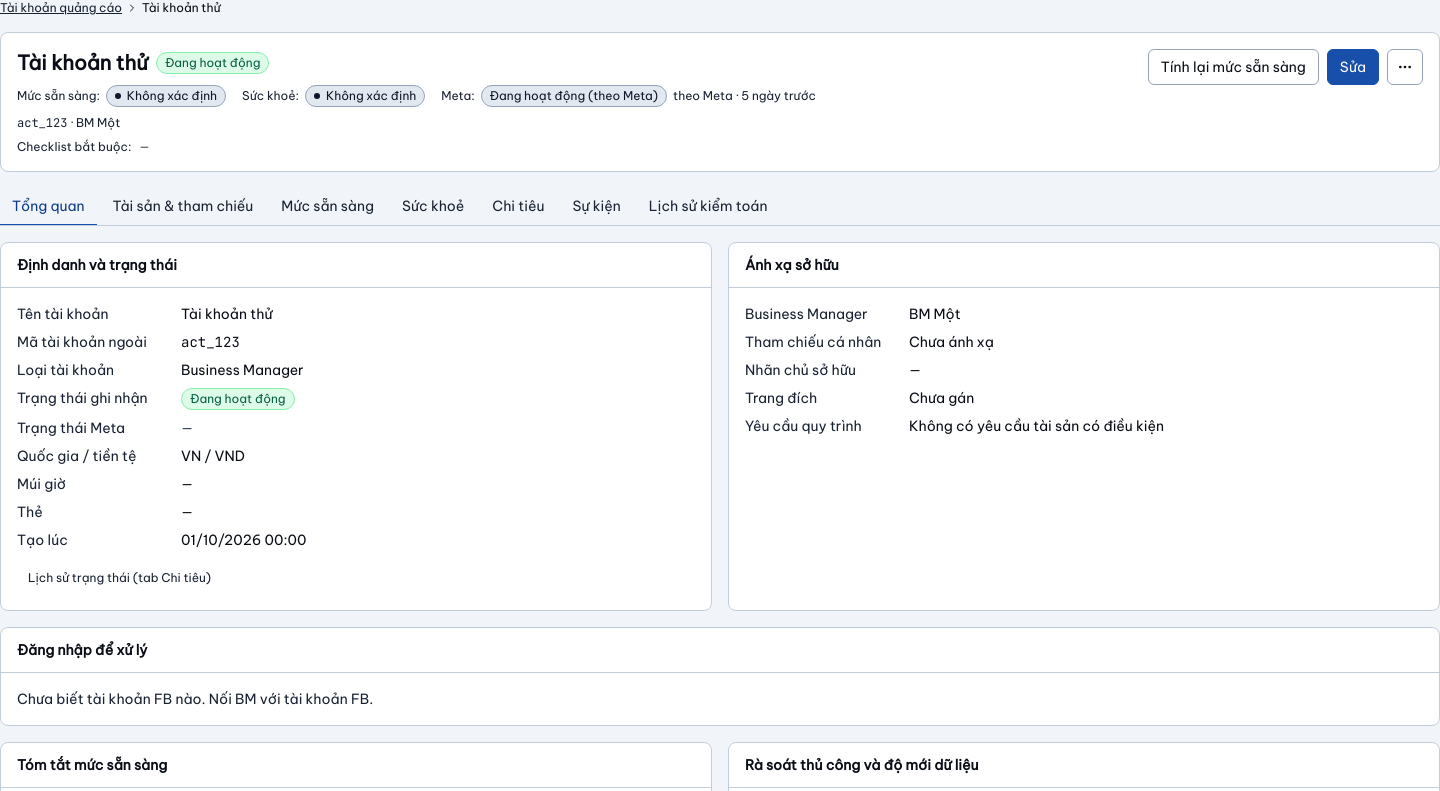
Test: Archive and restore use an AlertDialog, not window.confirm › hands focus back to the page (never to <body>) after cancel and after archiving
This screenshot has width=1440, height=791.
Expected: the heading "Tài khoản thử" is shown, [17,49,148,77]
Click the button named "Thêm hành động".
click(1405, 67)  # box [1387,49,1423,85]
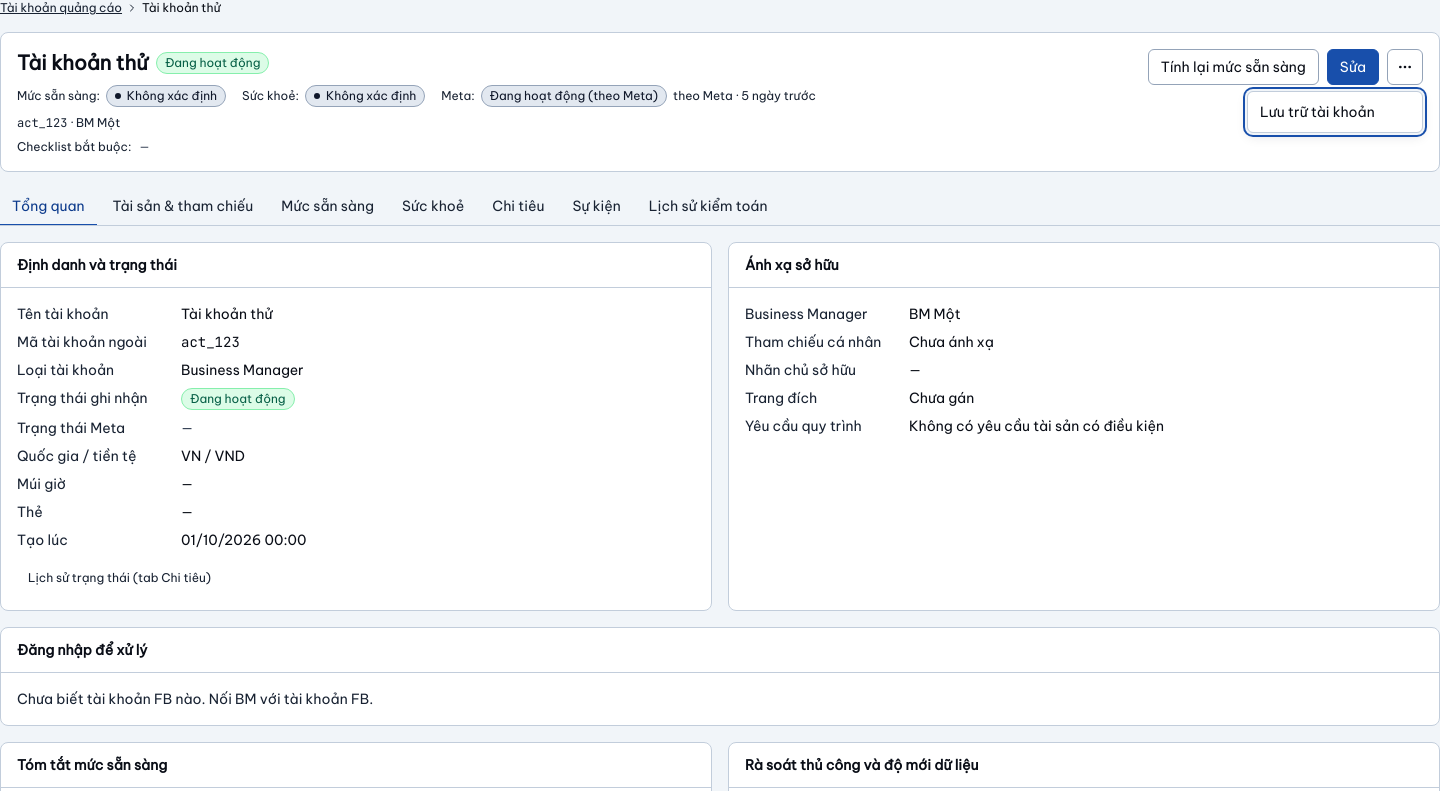
Click the menu item "Lưu trữ tài khoản".
click(1317, 112)  # box [1260,103,1375,121]
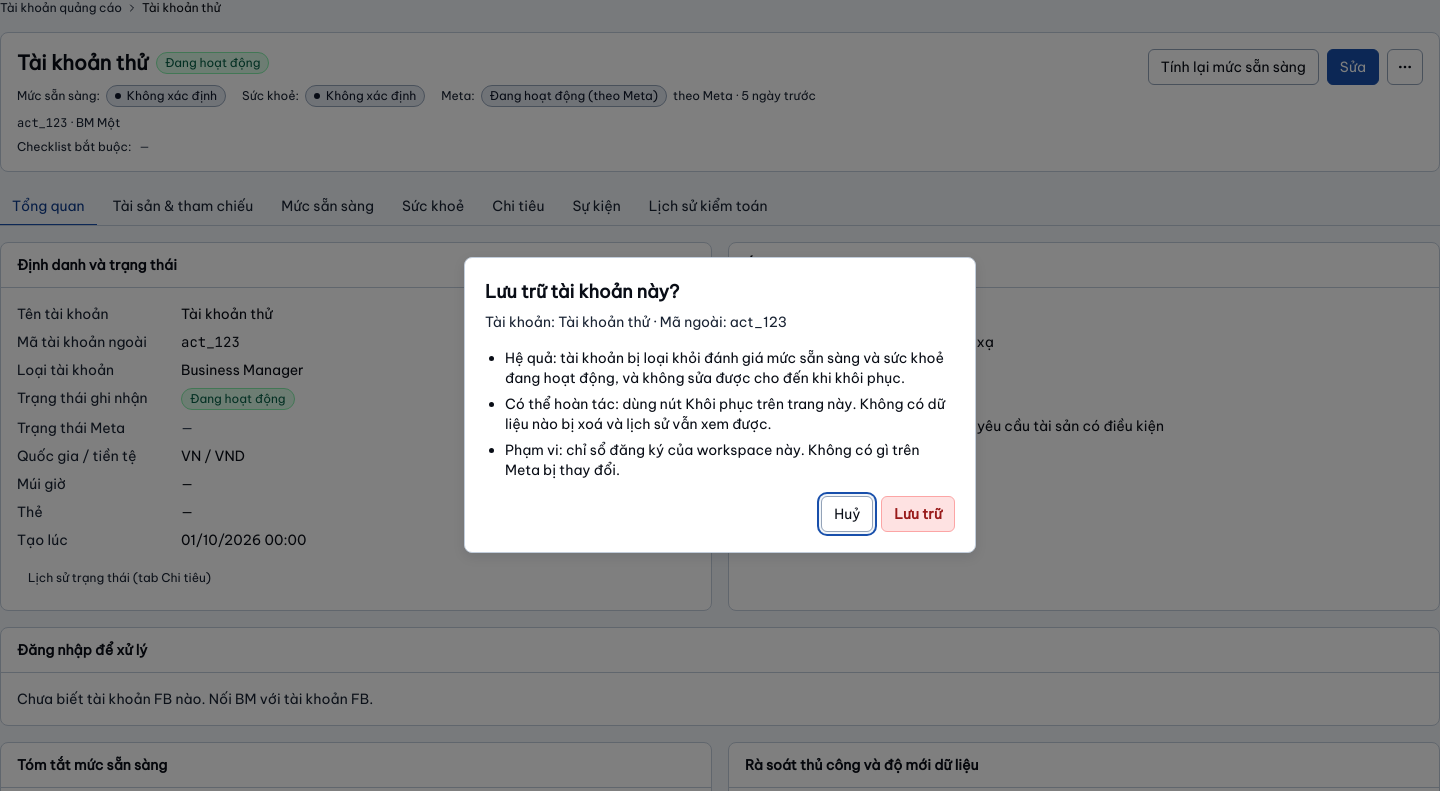
Click the button "Huỷ".
click(847, 514)  # box [821,496,873,532]
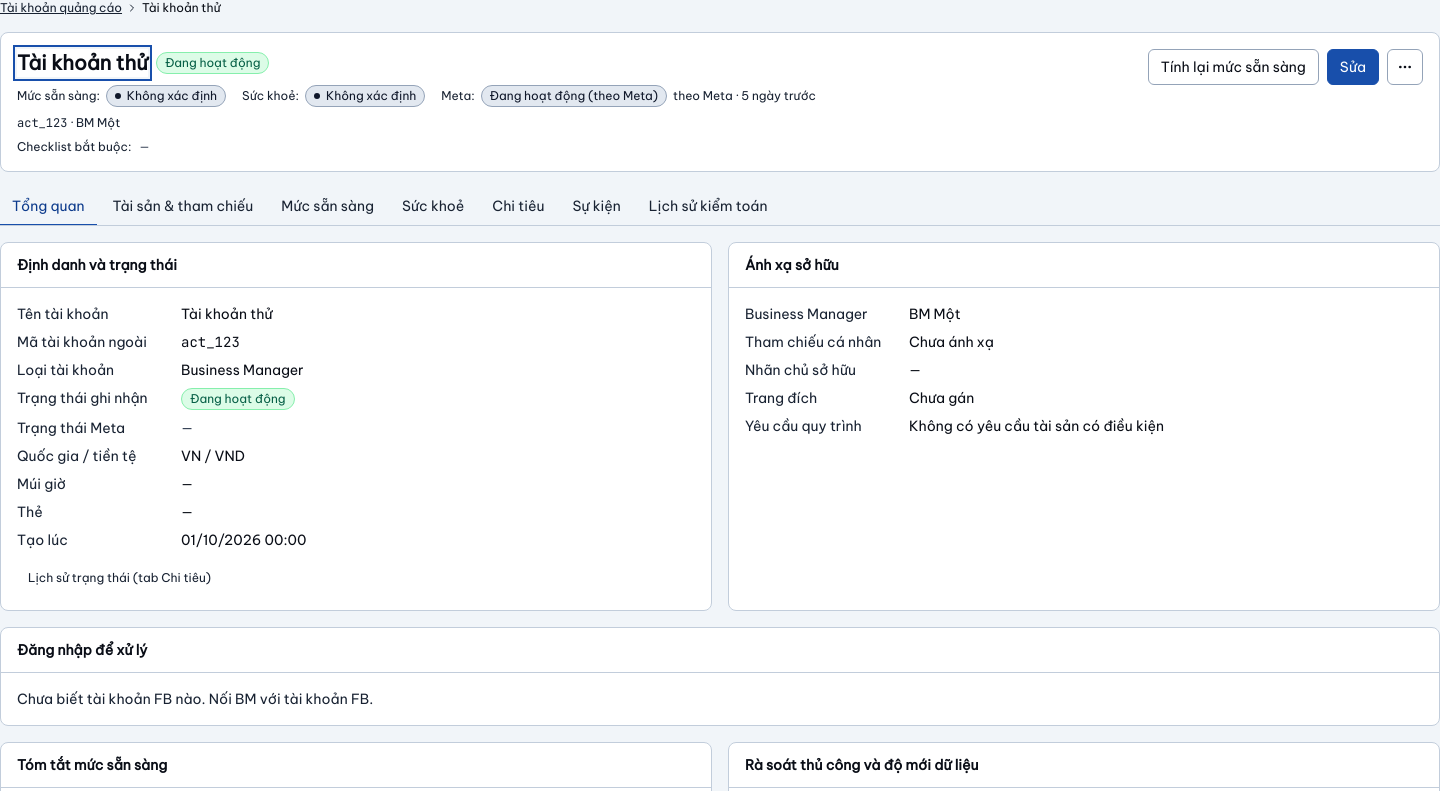
Expected: the heading "Tài khoản thử" is shown, [17,49,148,77]
Result: the dialog is gone
Click the button named "Thêm hành động".
click(1405, 67)  # box [1387,49,1423,85]
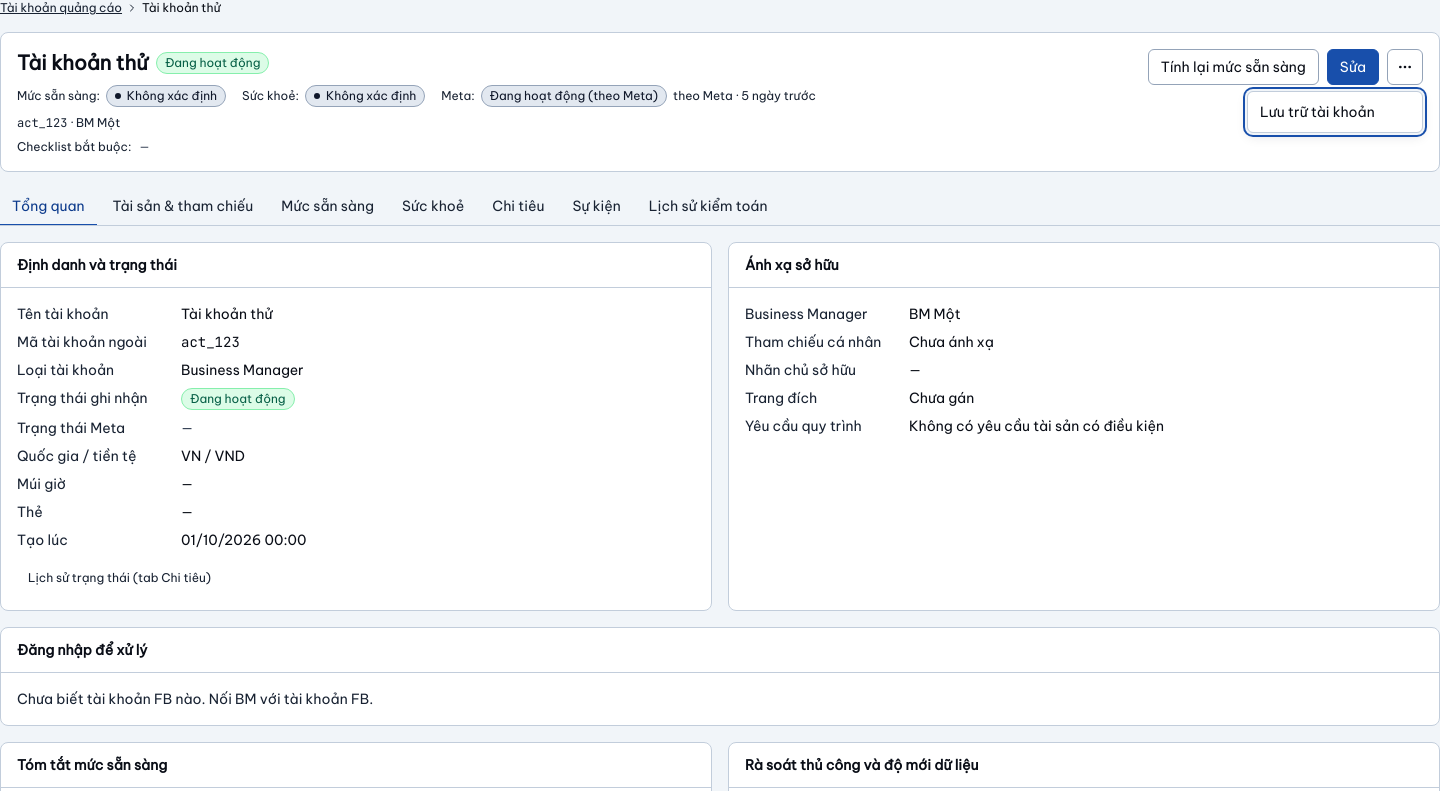
Click the menu item "Lưu trữ tài khoản".
click(1317, 112)  # box [1260,103,1375,121]
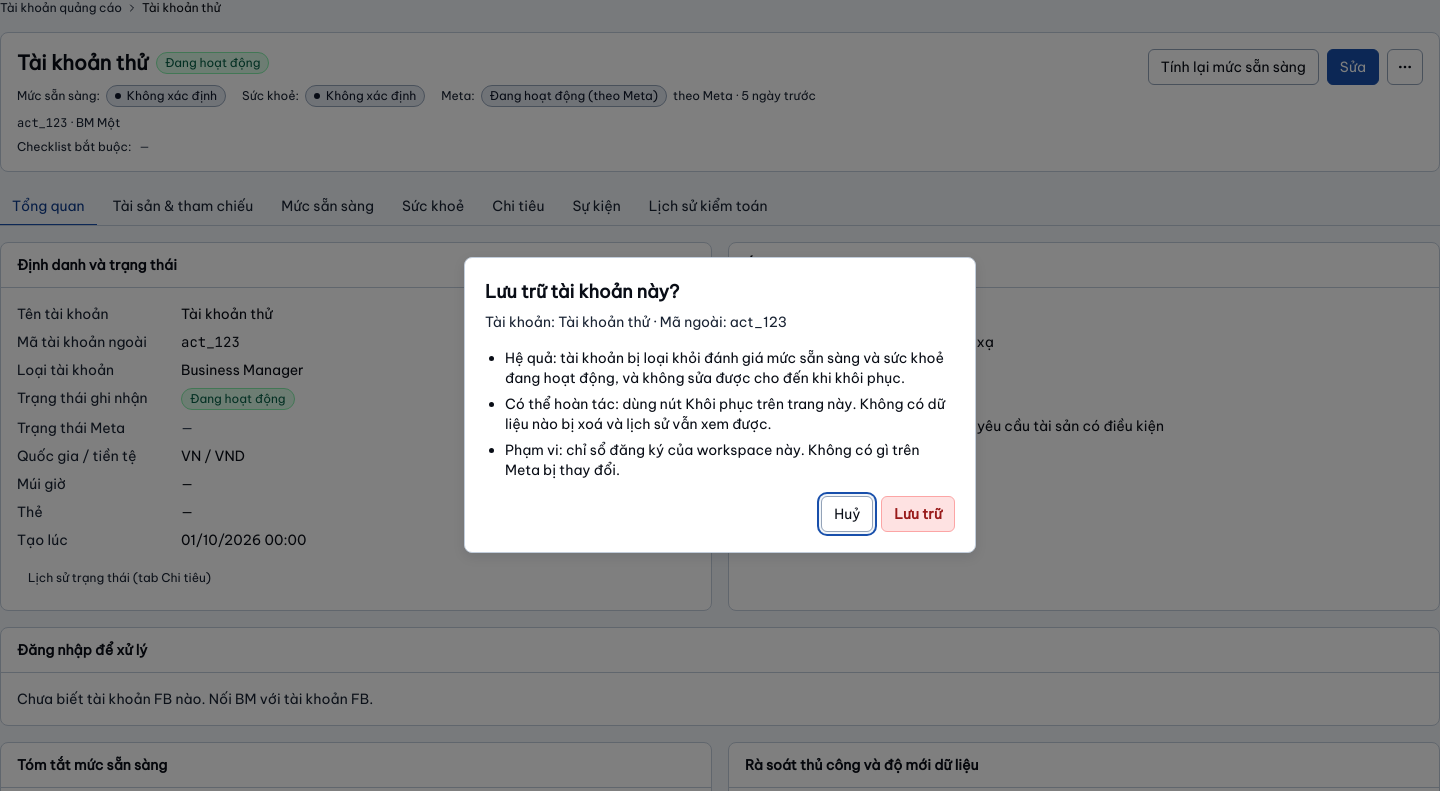
Click the button "Lưu trữ".
click(918, 514)  # box [881,496,955,532]
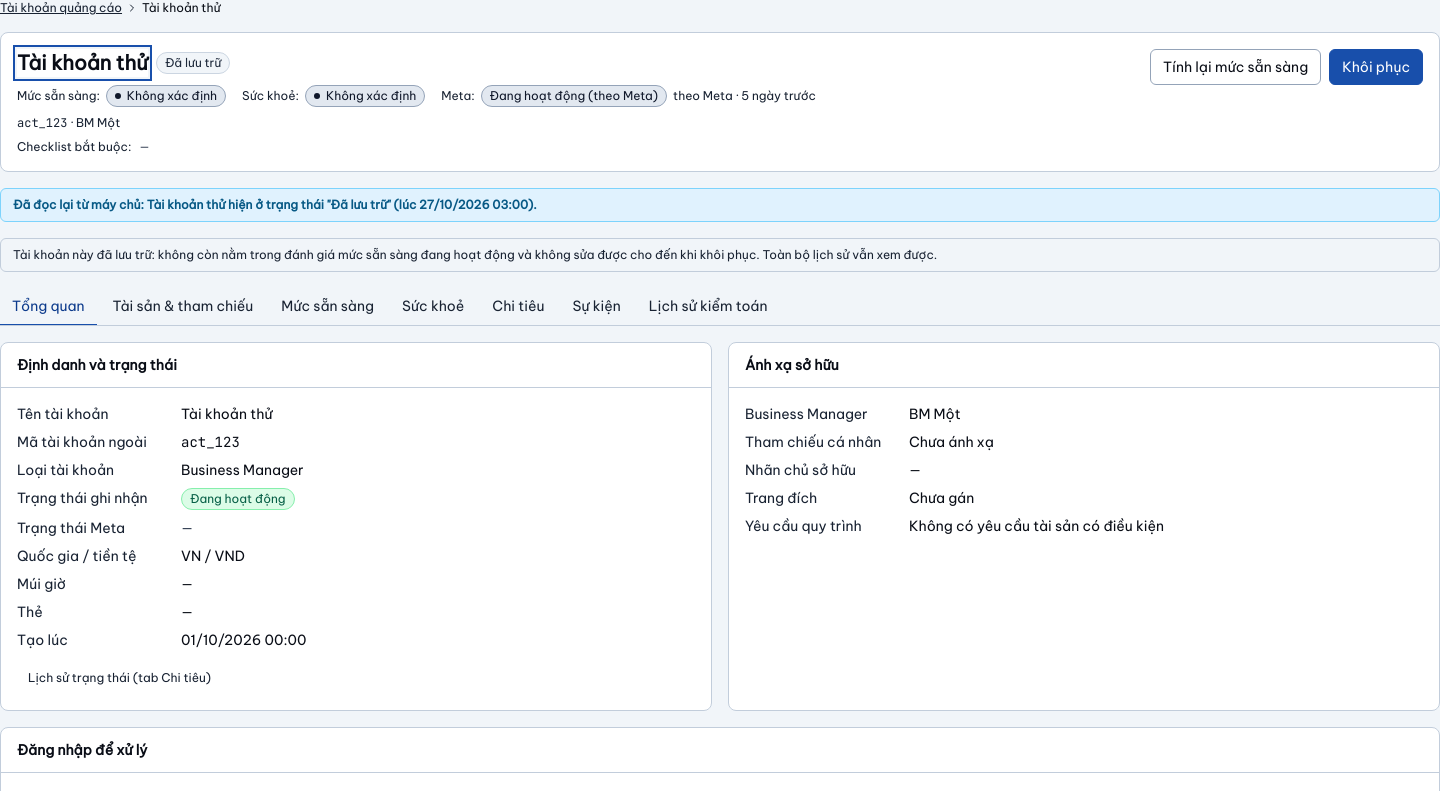
Result: the dialog is gone
